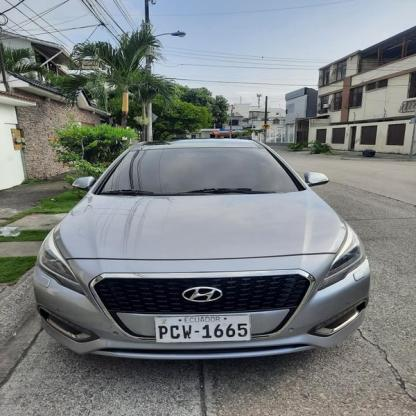Placa: (151, 312, 253, 348)
